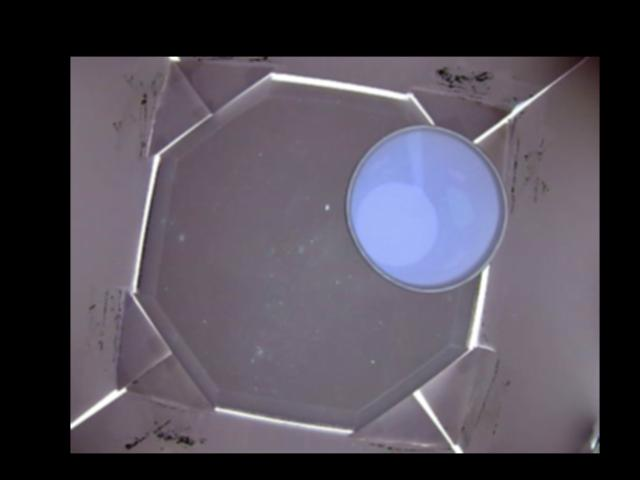Cup: (345, 124, 510, 292)
